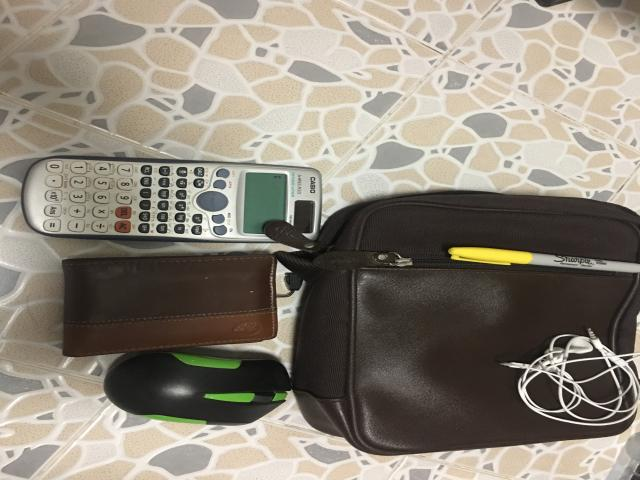Mouse: (103, 352, 292, 426)
Pen: (448, 247, 640, 273)
Wallet: (62, 254, 277, 357)
wire: (503, 330, 638, 427)
